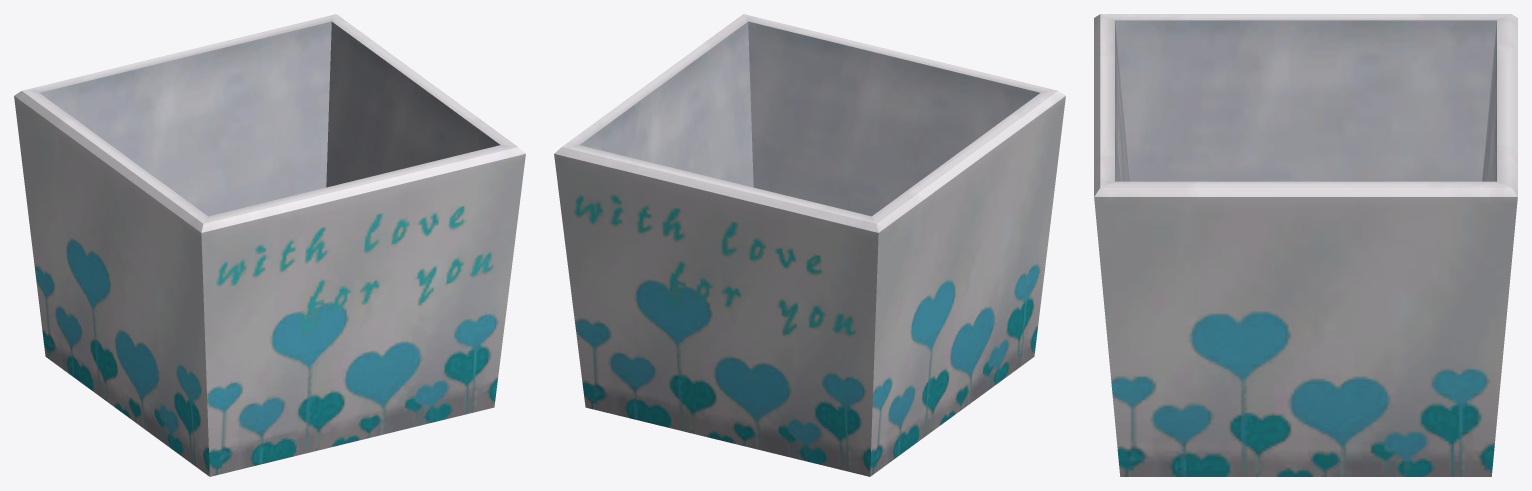
Rendered from furni_0200144_03.FBX.
3 renders of one model, left to right at view 1: azimuth 30°, elevation 25°; view 2: azimuth 150°, elevation 25°; view 3: azimuth 270°, elevation 25°, orthographic. The views are drawn at different scales.
Visible parts, largest first — view 1: furni_0200144_03; view 2: furni_0200144_03; view 3: furni_0200144_03.
Part boxes in pixels (x1,y1,x2,y2): furni_0200144_03: [14, 14, 525, 476]; furni_0200144_03: [554, 14, 1065, 476]; furni_0200144_03: [1094, 14, 1517, 476].
Bounding box in the file's own units: 39.75 × 30.81 × 39.75.
